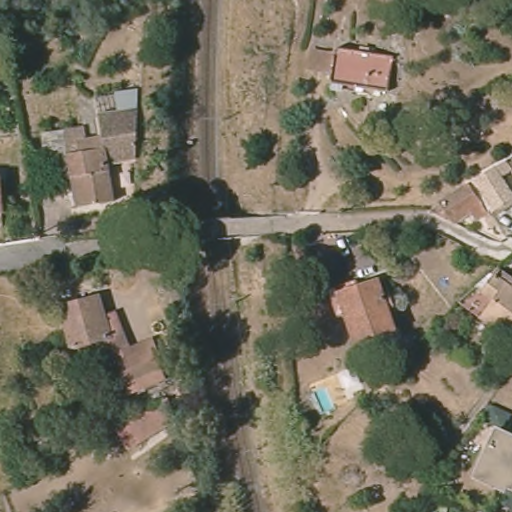pool: (314, 387, 335, 417)
